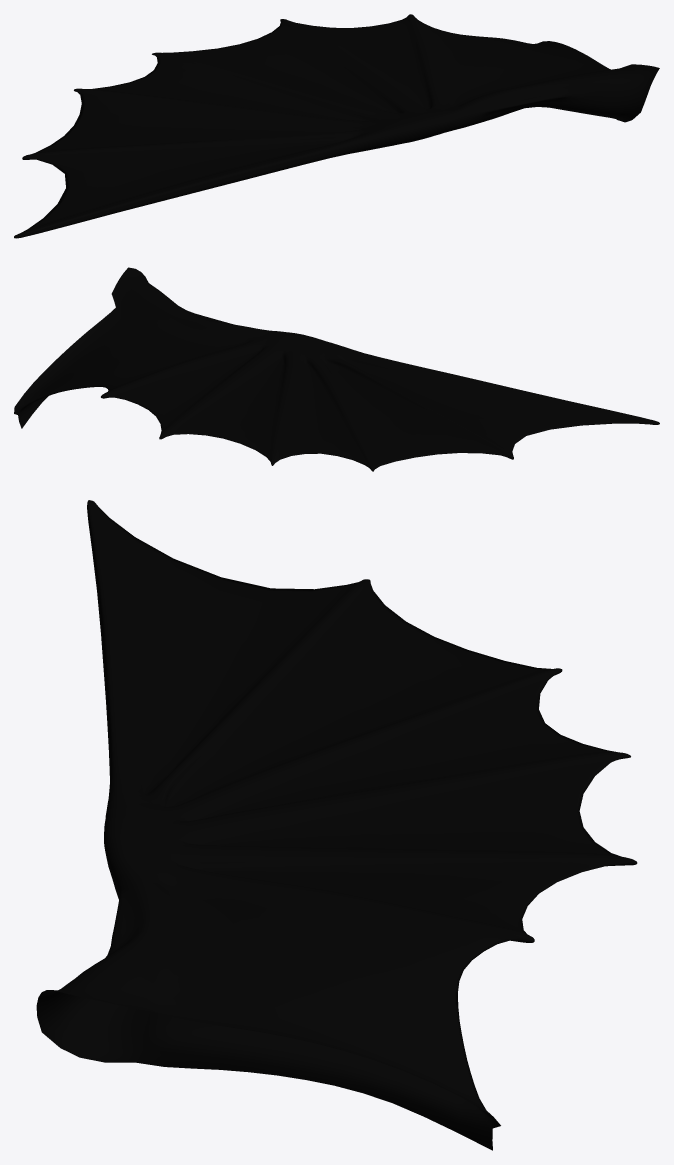
File: alaizqderd2.obj
The picture shows the model from 3 angles, top to bottom: view 1: azimuth 30°, elevation 25°; view 2: azimuth 150°, elevation 25°; view 3: azimuth 270°, elevation 25°; orthographic projection. The views are drawn at different scales.
Visible parts, largest first — view 1: Alaizqd2; view 2: Alaizqd2; view 3: Alaizqd2.
Boxes of the visible parts, box(x1,y1,x2,y2) form: Alaizqd2: box(14, 14, 659, 238); Alaizqd2: box(14, 267, 659, 471); Alaizqd2: box(36, 500, 637, 1150).
Size of the model in its own units: 0.5742 by 0.0818 by 0.2744.
1 material, 1 textured.
